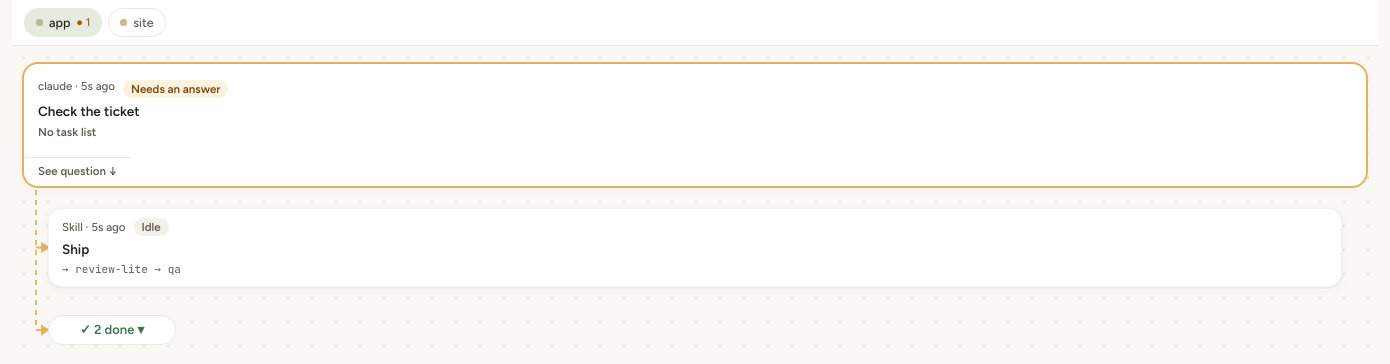
Test: phone map › one folder at a time, the one that needs you first, with its count
Expected: the tab "app ● 1" is shown, [24,8,102,37]
Expected: the heading "Ship" is shown, [62,241,89,258]
Click the tab "site" at coordinates (137, 22), box [108,8,166,37]
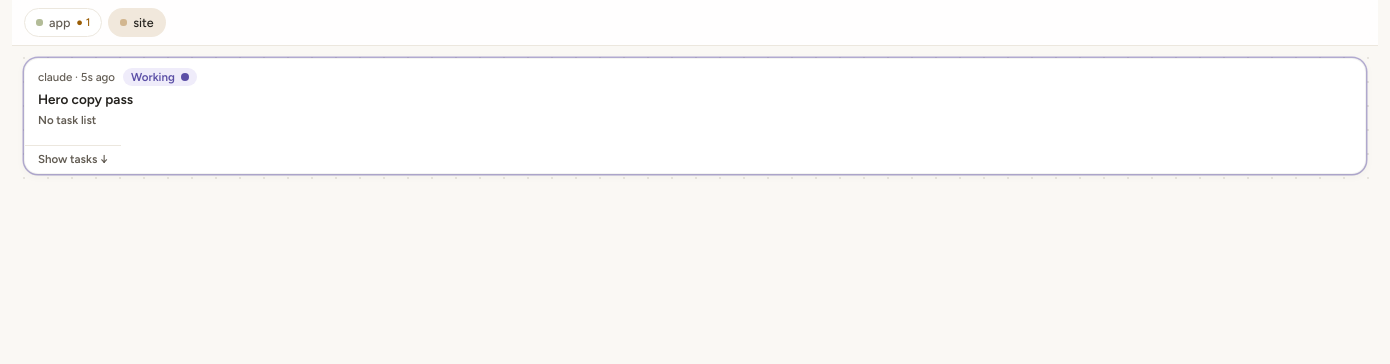
Expected: the heading "Hero copy pass" is shown, [38,91,133,108]
Expected: the button "Ship" is gone
